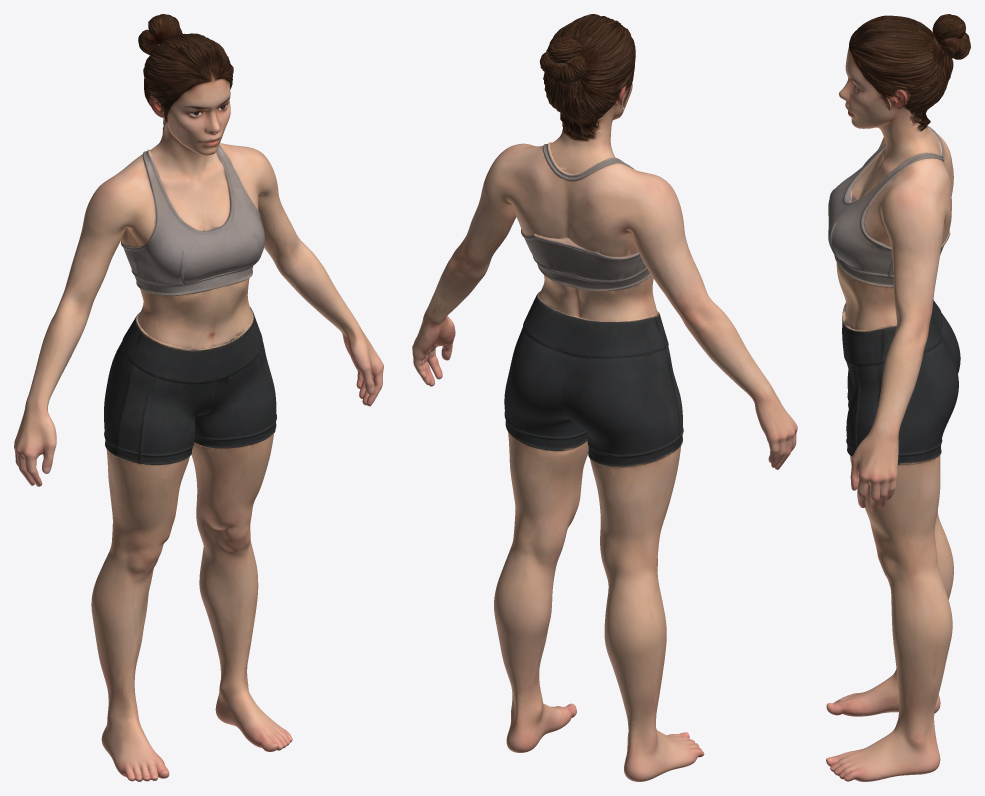
The model's file is preview.glb.
3 renders of one model, left to right at view 1: azimuth 30°, elevation 25°; view 2: azimuth 150°, elevation 25°; view 3: azimuth 270°, elevation 25°, orthographic. The views are drawn at different scales.
Parts seen in each view (by area): view 1: woman-base-character; view 2: woman-base-character; view 3: woman-base-character.
Boxes of the visible parts, bbox=[...] form: woman-base-character: bbox=[14, 14, 383, 781]; woman-base-character: bbox=[412, 14, 797, 781]; woman-base-character: bbox=[826, 14, 970, 781].
Bounding box in the file's own units: 0.9035 × 1.68 × 0.3025.
1 material, 1 textured.
